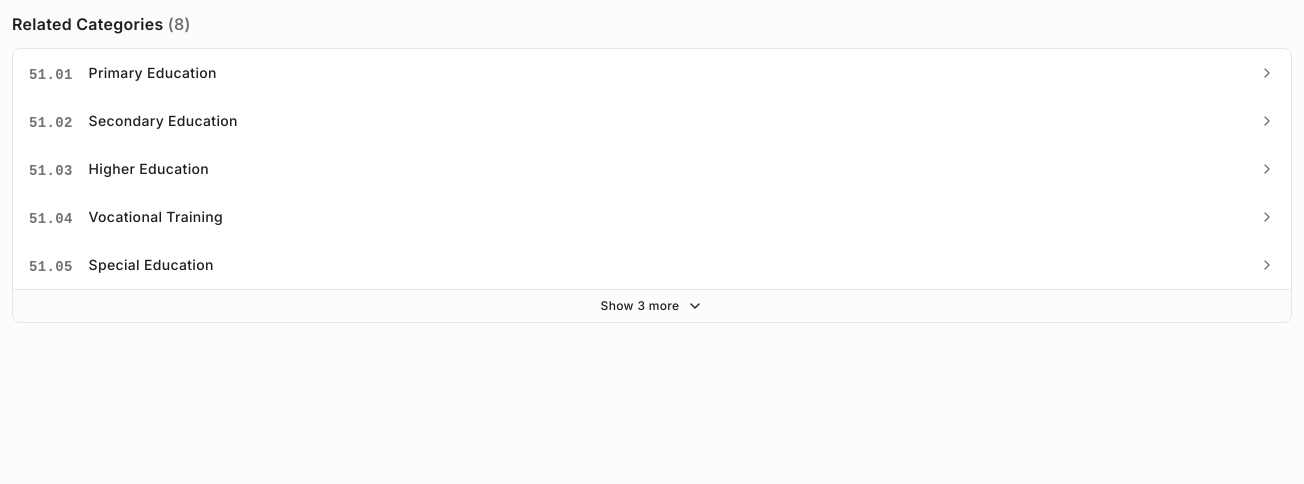
Scenario: ClassificationSiblings › expand/collapse functionality › collapses back to 5 siblings when clicked again
Step 1. Click the button → x=652, y=306, box [13,290,1291,322]
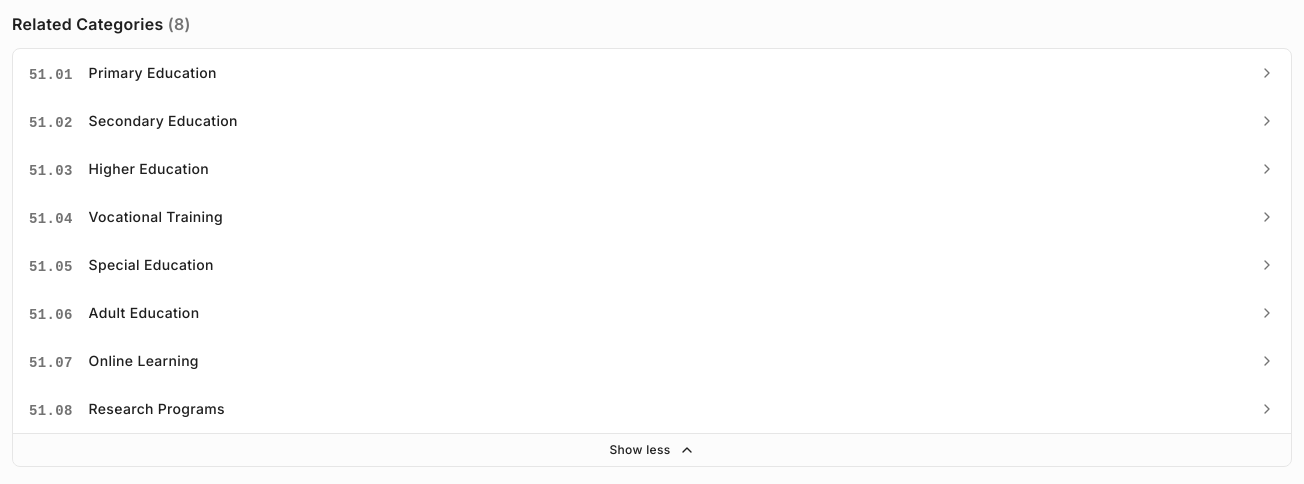
Step 2. Click the button → x=652, y=450, box [13,434,1291,466]
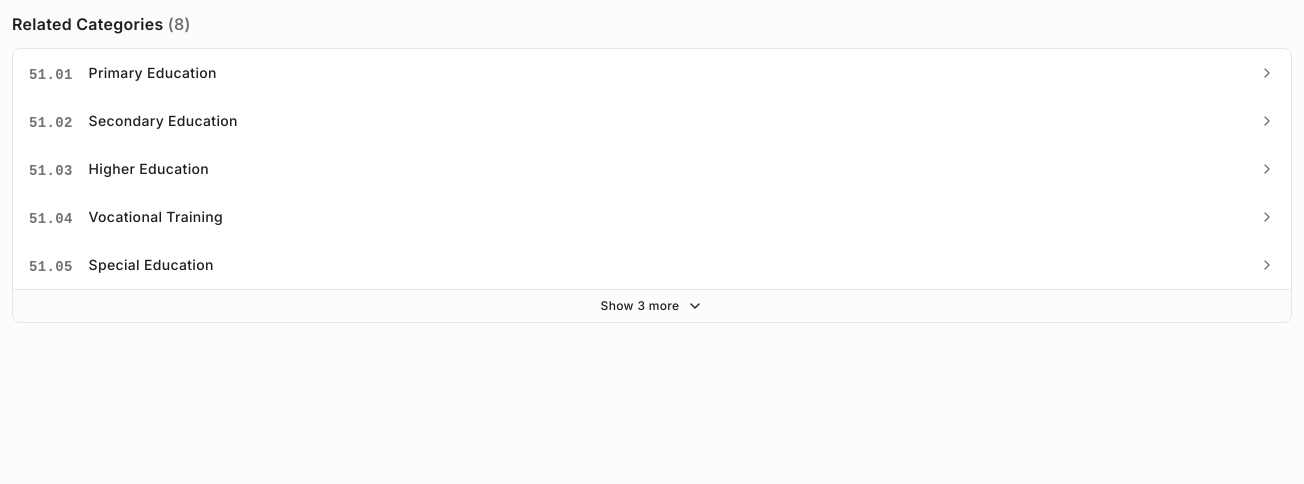
Expected: the number of links with test id "sibling-link" is 5, [13,49,1291,97]; [13,97,1291,145]; [13,145,1291,193]; [13,193,1291,241]; [29,256,1275,275]
